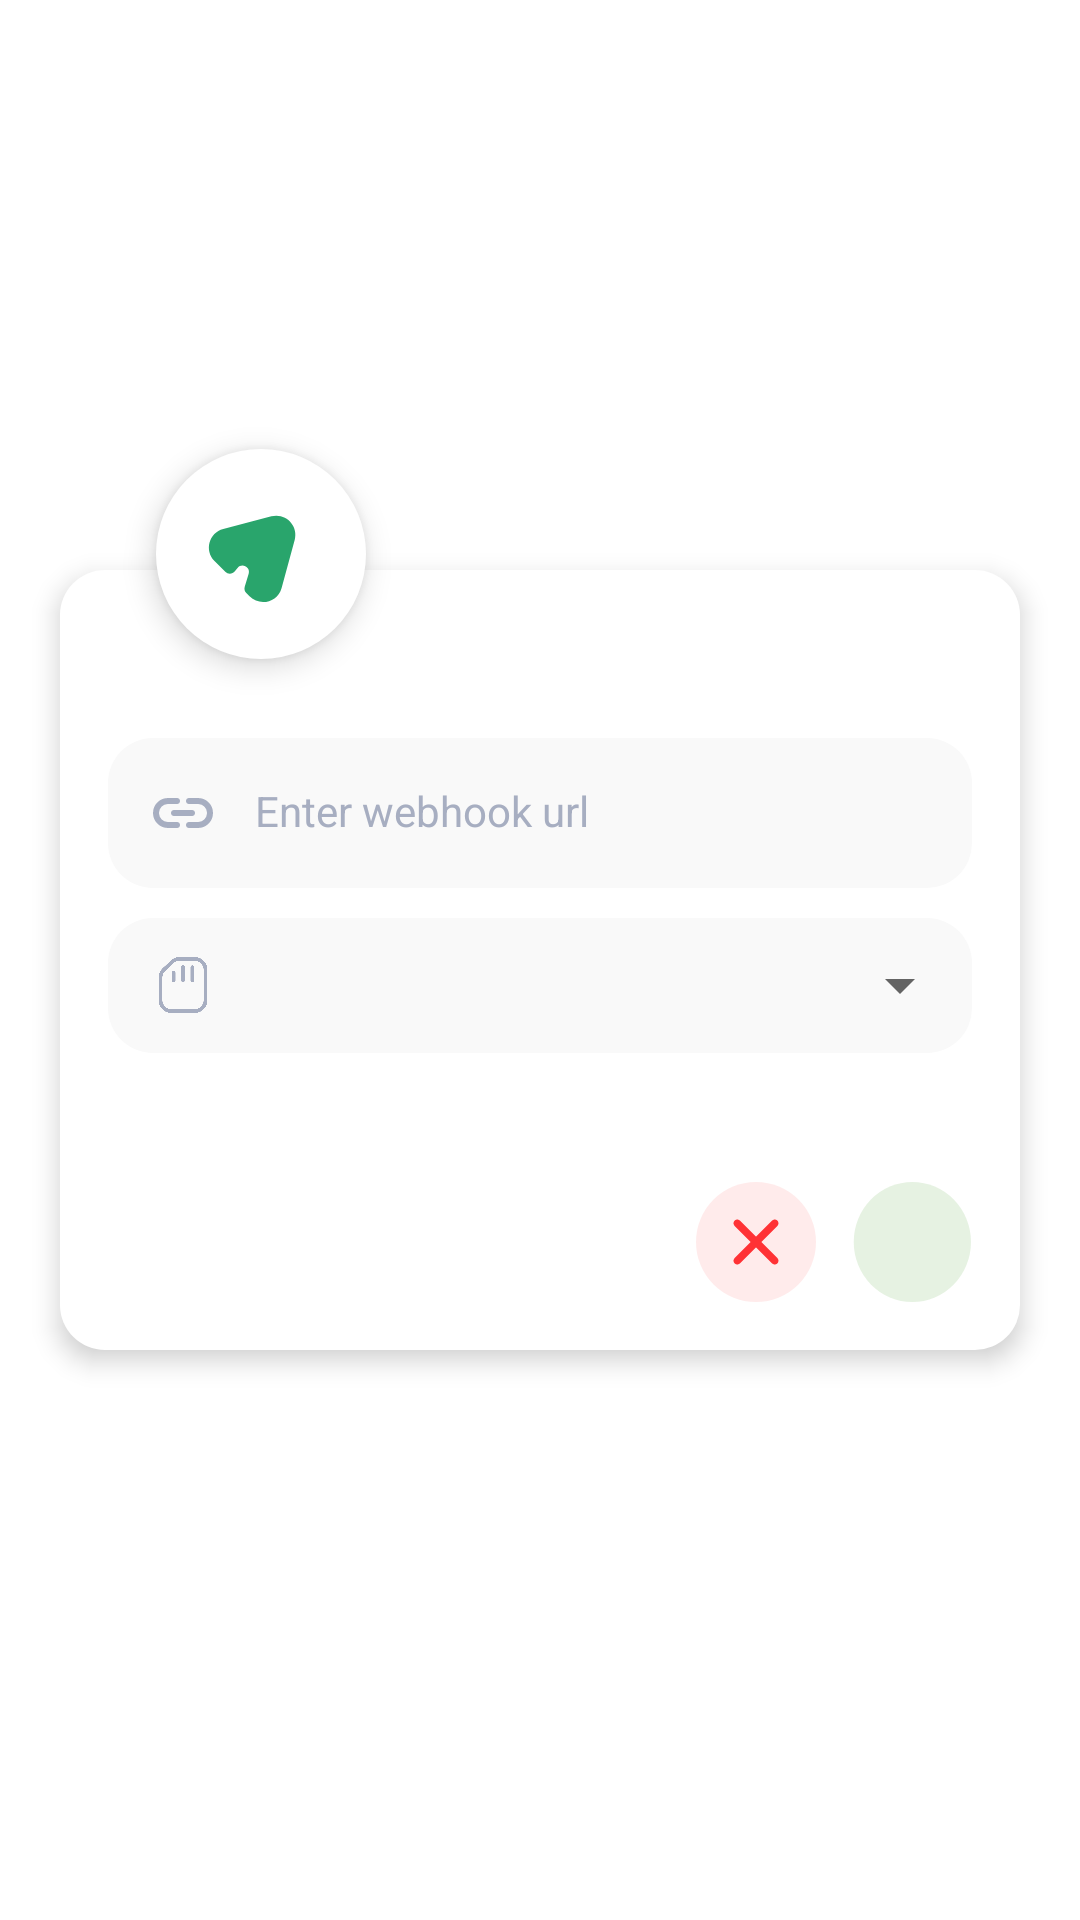

Where icons sit on this 1080px x 1920px app screen, as (x1, y1, x2, y2):
remove session tube: (696, 1182, 816, 1302)
sim: (159, 957, 207, 1013)
